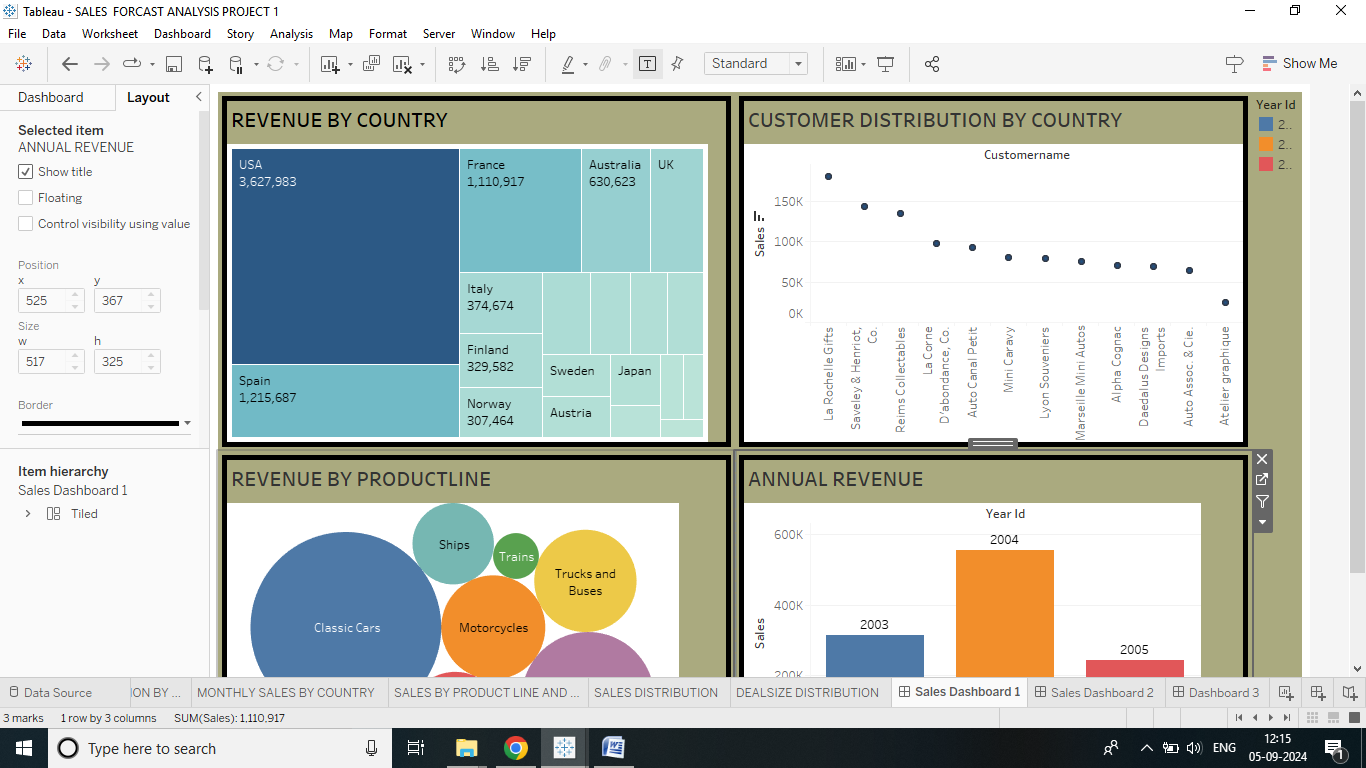

The dashboard page shown, as its layout file describes it:
{"tool":"tableau","page":{"name":"Sales Dashboard 1","canvas":[1100,700],"ordinal":1},"visuals":[{"type":"worksheet","title":" REVENUE BY COUNTRY","mark":"Automatic","box":[8,8,516.9,359]},{"type":"worksheet","title":"CUSTOMER DISTRIBUTION BY COUNTRY","mark":"Heatmap","rows":["SALES"],"cols":["CUSTOMERNAME"],"box":[524.9,8,517.1,359]},{"type":"legend","title":"ANNUAL REVENUE","param":"[federated.071er9i0nj29bg1fdc0hl1h44dlx].[none:YEAR_ID:ok]","box":[1042,8,50,342]},{"type":"legend","title":"CUSTOMER DISTRIBUTION BY COUNTRY","param":"[federated.071er9i0nj29bg1fdc0hl1h44dlx].[none:CUSTOMERNAME:nk]","box":[1042,350,50,22]},{"type":"worksheet","title":"REVENUE BY PRODUCTLINE","mark":"Circle","box":[8,367,517,325]},{"type":"worksheet","title":"ANNUAL REVENUE","mark":"Automatic","rows":["SALES"],"cols":["YEAR_ID"],"box":[525,367,517,325]}]}

Visuals, with their boxes on the page's 1100x700 design canvas (x1, y1, x2, y2). These are canvas units, not pixel positions in the 1366x768 screenshot, which may show the page scaled, cropped or inside an application window:
" REVENUE BY COUNTRY" worksheet: left=8, top=8, right=525, bottom=367
"CUSTOMER DISTRIBUTION BY COUNTRY" worksheet (Heatmap marks): left=525, top=8, right=1042, bottom=367
"ANNUAL REVENUE" legend: left=1042, top=8, right=1092, bottom=350
"CUSTOMER DISTRIBUTION BY COUNTRY" legend: left=1042, top=350, right=1092, bottom=372
"REVENUE BY PRODUCTLINE" worksheet (Circle marks): left=8, top=367, right=525, bottom=692
"ANNUAL REVENUE" worksheet: left=525, top=367, right=1042, bottom=692
